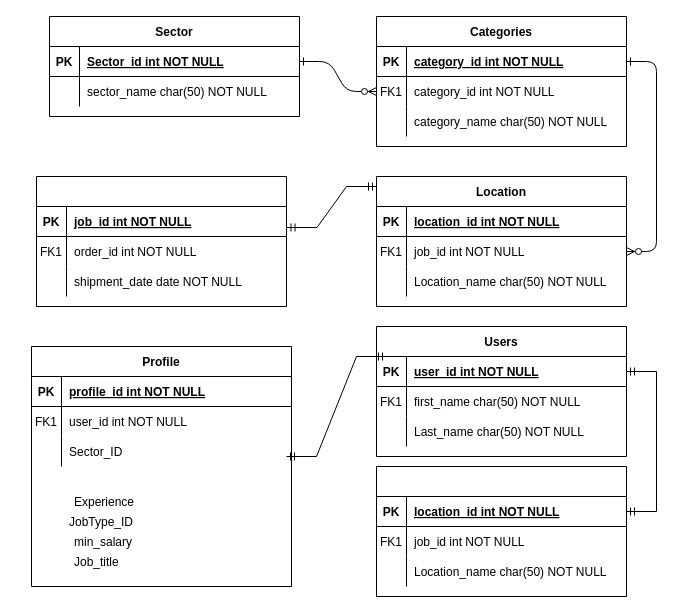
Image size: 673x613. Some labels were removed from this diagram. The shapes that lost their labels are listed below. From the top down, each one's box as (x1, y1, x2, y2) in pixels, then its label:
(36, 176, 286, 306): Jobs
(376, 466, 626, 596): UserJobs
